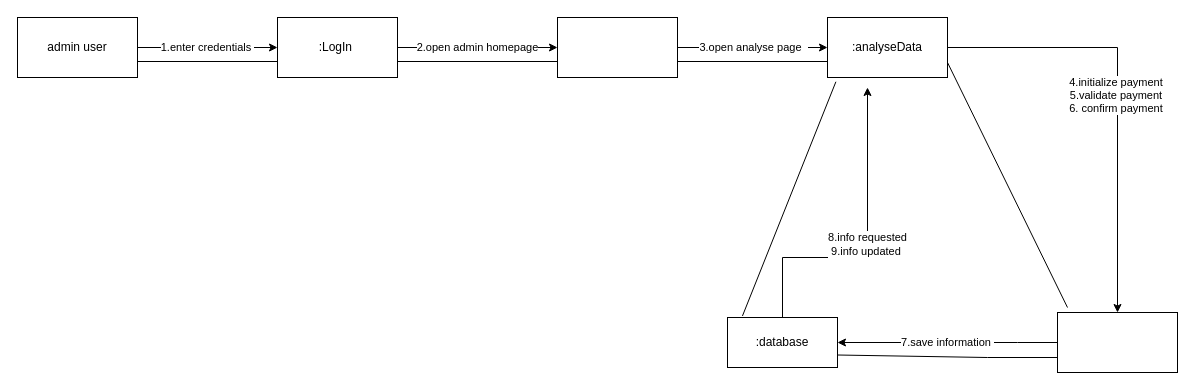
The diagram is 1195 pixels wide and 390 high, and some of its shapes have lost their labels. Each missing label, with the centre of its shape:
:homepage: the point at 617,47
:server: the point at 1117,342
